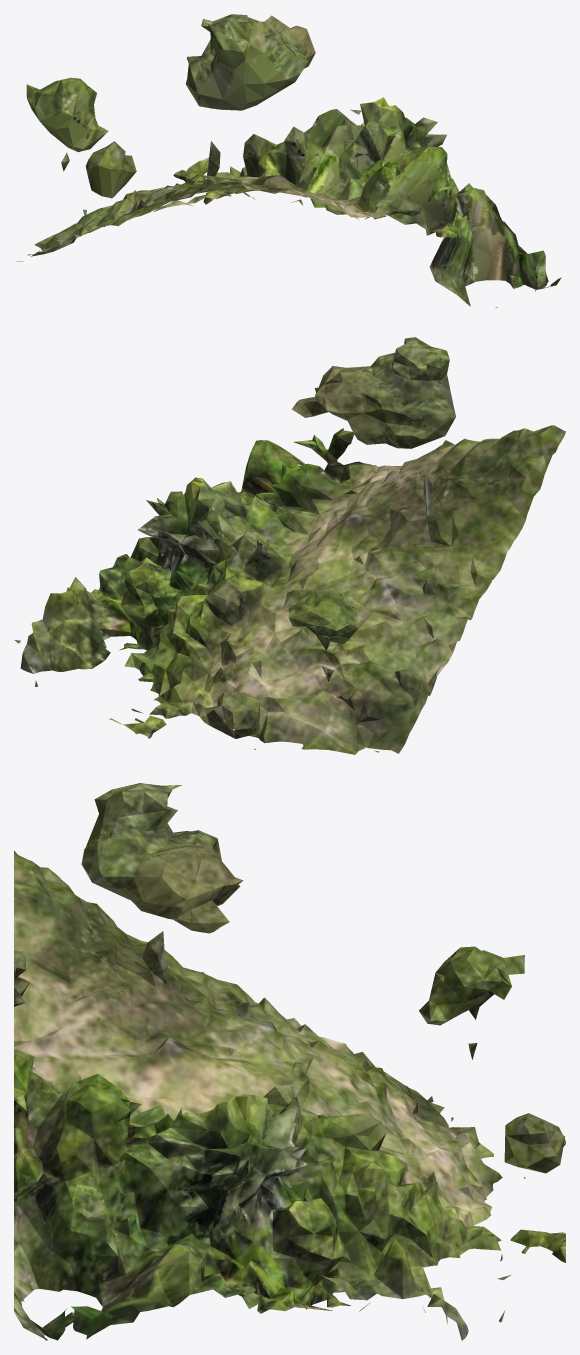
3 views of the same model, one above another, from view 1: azimuth 30°, elevation 25°; view 2: azimuth 150°, elevation 25°; view 3: azimuth 270°, elevation 25° (orthographic). The views are drawn at different scales.
Size of the model in its own units: 26.11 by 20.07 by 26.11.
4 materials, 4 textured.
